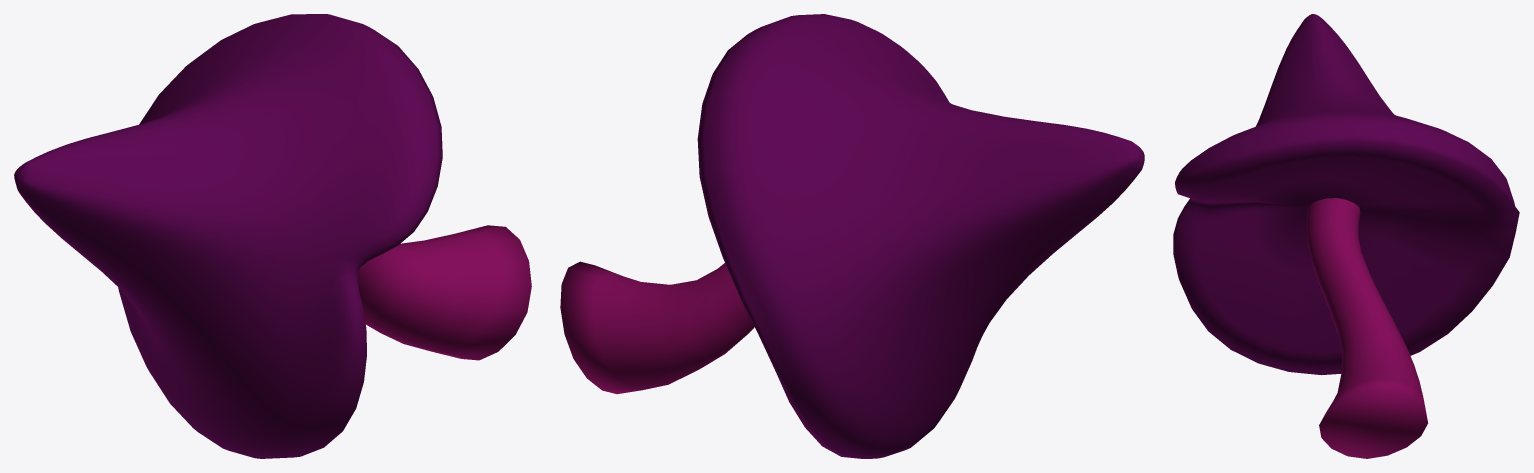
Rendered from CogumeloChapeuBruxa.fbx.
3 renders of one model, left to right at view 1: azimuth 30°, elevation 25°; view 2: azimuth 150°, elevation 25°; view 3: azimuth 270°, elevation 25°, orthographic. The views are drawn at different scales.
Parts seen in each view (by area): view 1: CogumeloChapeu; view 2: CogumeloChapeu; view 3: CogumeloChapeu.
Part boxes in pixels (x1=…): CogumeloChapeu: x1=14, y1=14, x2=531, y2=458; CogumeloChapeu: x1=560, y1=14, x2=1144, y2=458; CogumeloChapeu: x1=1173, y1=14, x2=1519, y2=458.
Bounding box in the file's own units: 199 × 137 × 141.
